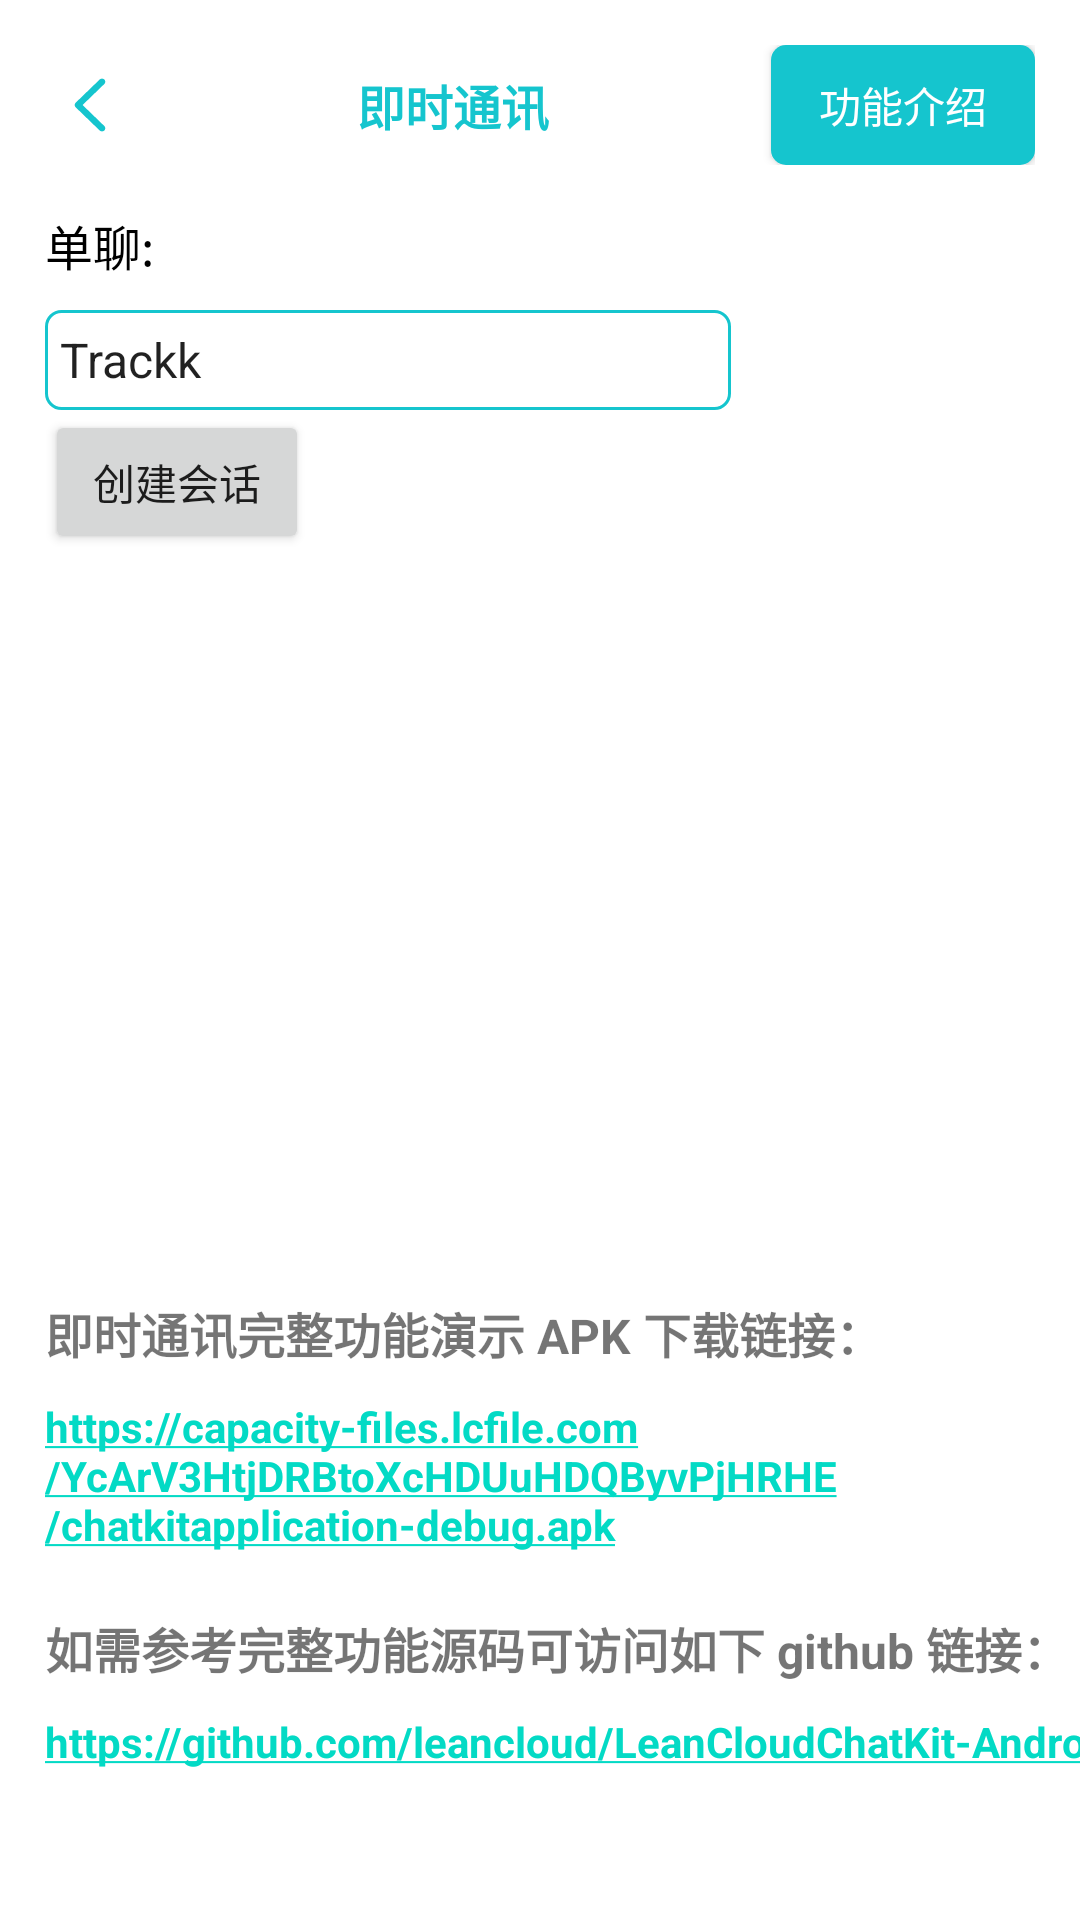

Icon bounding boxes for this 1080px×1920px phone screenshot, format (x1, y1, x2, y2):
back: (74, 78, 106, 132)
